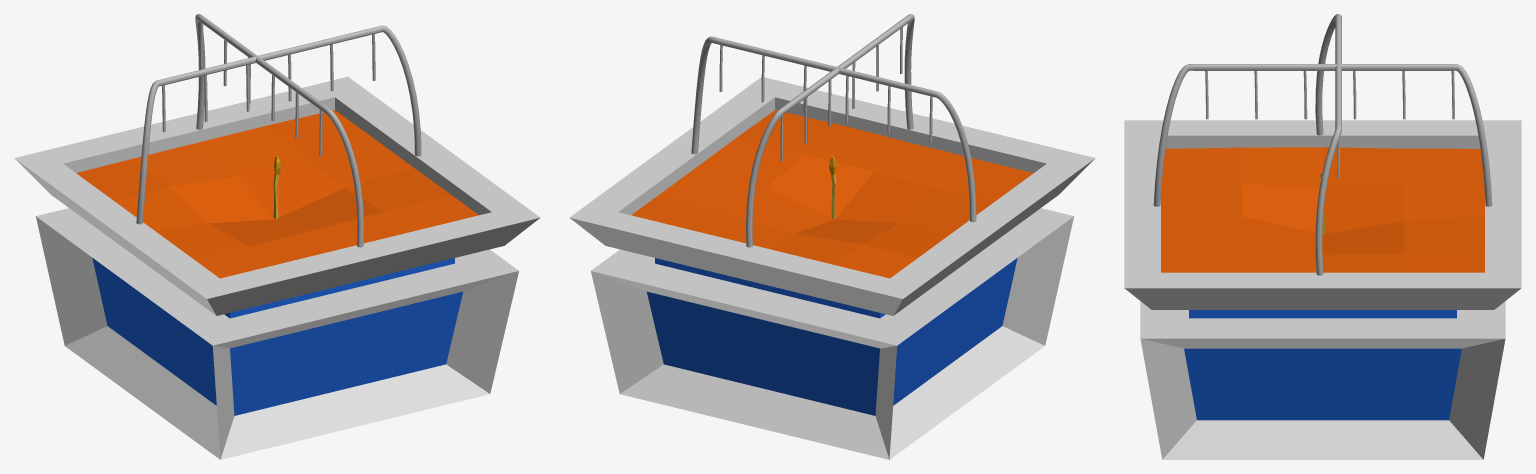
File: Crops Full.fbx
3 views of the same model, side by side, from view 1: azimuth 30°, elevation 25°; view 2: azimuth 150°, elevation 25°; view 3: azimuth 270°, elevation 25° (orthographic). The views are drawn at different scales.
Parts seen in each view (by area): view 1: Cube.003; view 2: Cube.003; view 3: Cube.003.
Boxes of the visible parts, x1=… form: Cube.003: x1=14, y1=14, x2=540, y2=459; Cube.003: x1=569, y1=14, x2=1095, y2=459; Cube.003: x1=1124, y1=14, x2=1521, y2=459.
Size of the model in its own units: 171 by 153 by 171.
